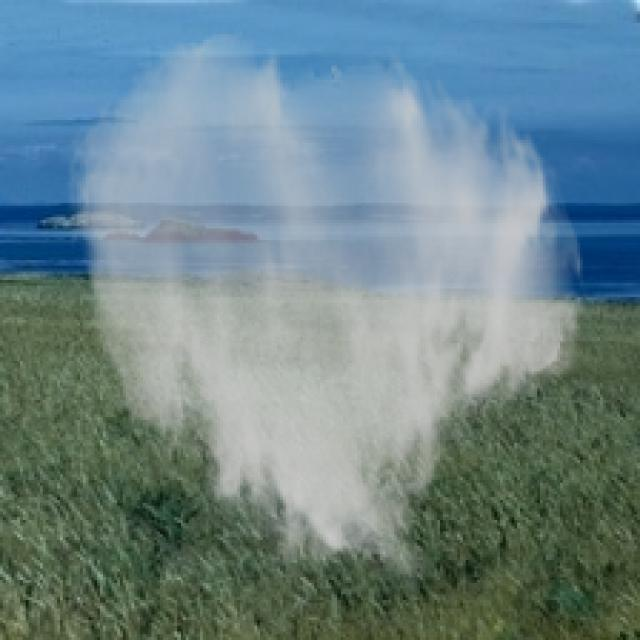Smoke: (62, 28, 588, 594)
